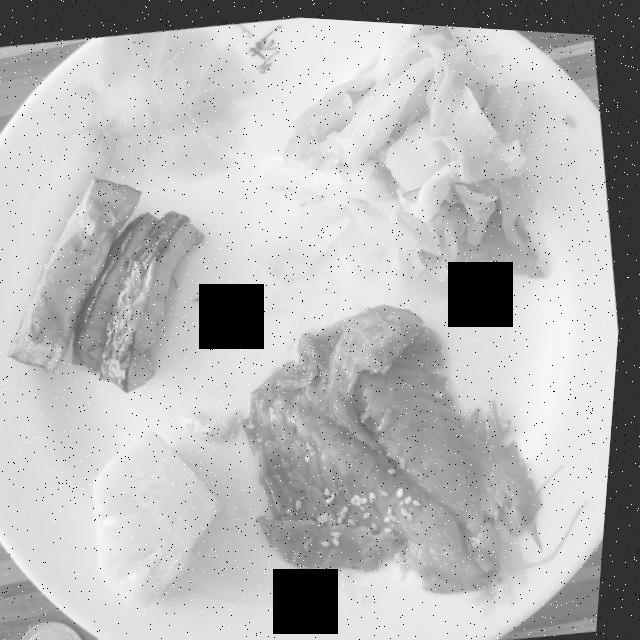Kabayaki sea bream fillet: (248, 299, 548, 587)
cabbage: (255, 19, 548, 290)
coin: (30, 619, 93, 640)
pineapple: (100, 428, 231, 607)
pumpkin: (15, 176, 207, 390)
